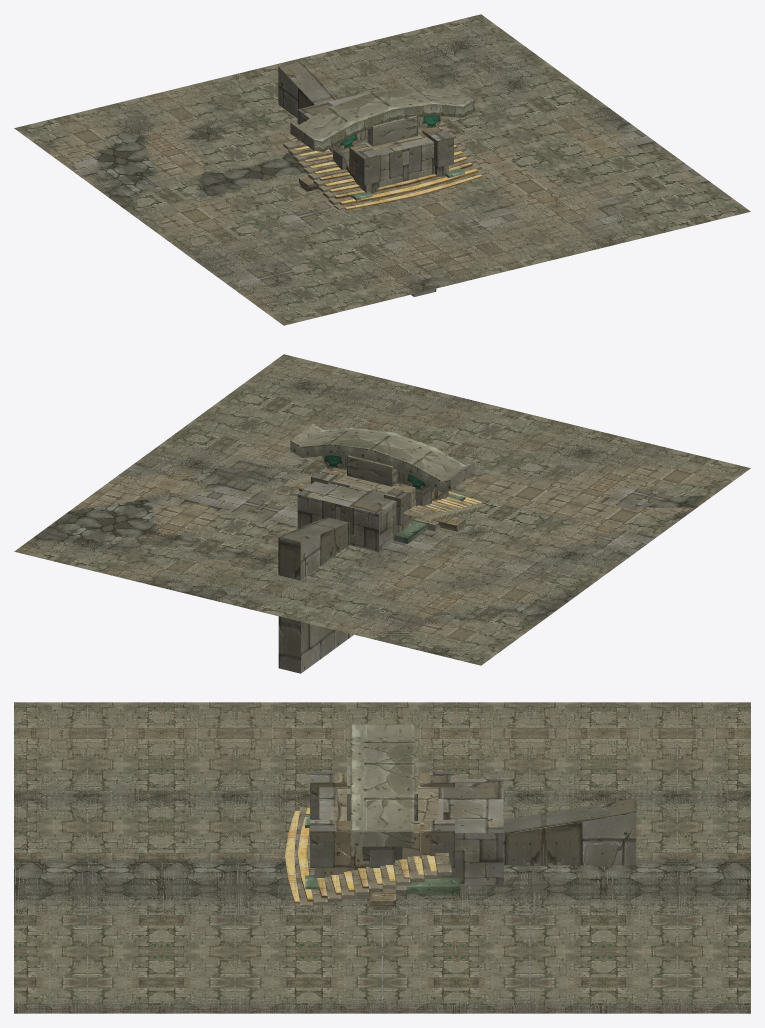
Rendered from DAJIAN_changjing.fbx.
The picture shows the model from 3 angles, top to bottom: view 1: azimuth 30°, elevation 25°; view 2: azimuth 150°, elevation 25°; view 3: azimuth 270°, elevation 25°; orthographic projection. The views are drawn at different scales.
Parts seen in each view (by area): view 1: D_diban2, D_diban3, D_diban4, D_diban5, Q_Qianmian, Q_qianmian, T_Taijie, T_Taijie1, T_Taijie3; view 2: D_diban2, D_diban3, D_diban4, D_diban5, Q_Qianmian, Q_qianmian, T_Taijie; view 3: D_diban2, D_diban3, D_diban4, D_diban5, Q_Qianmian, Q_qianmian, T_Taijie, T_Taijie1, T_Taijie3, Z_Zuangshi1.
Part boxes in pixels (<box>): D_diban2: <box>14,14,750,325</box>; D_diban3: <box>44,16,742,324</box>; D_diban4: <box>16,15,747,317</box>; D_diban5: <box>52,15,740,312</box>; Q_Qianmian: <box>278,61,464,296</box>; Q_qianmian: <box>290,83,474,167</box>; T_Taijie: <box>283,120,486,209</box>; T_Taijie1: <box>296,128,482,209</box>; T_Taijie3: <box>295,127,481,209</box>; D_diban2: <box>20,354,750,665</box>; D_diban3: <box>14,355,747,647</box>; D_diban4: <box>17,354,746,662</box>; D_diban5: <box>38,356,727,652</box>; Q_Qianmian: <box>278,455,465,673</box>; Q_qianmian: <box>290,423,474,506</box>; T_Taijie: <box>283,475,486,522</box>; D_diban2: <box>14,702,750,1013</box>; D_diban3: <box>14,702,750,1013</box>; D_diban4: <box>14,702,750,1013</box>; D_diban5: <box>14,702,750,1013</box>; Q_Qianmian: <box>305,764,636,893</box>; Q_qianmian: <box>350,724,414,860</box>; T_Taijie: <box>294,807,451,907</box>; T_Taijie1: <box>285,808,436,901</box>; T_Taijie3: <box>294,808,436,903</box>; Z_Zuangshi1: <box>369,888,395,910</box>.
Bounding box in the file's own units: 37.41 × 12.41 × 37.41.
